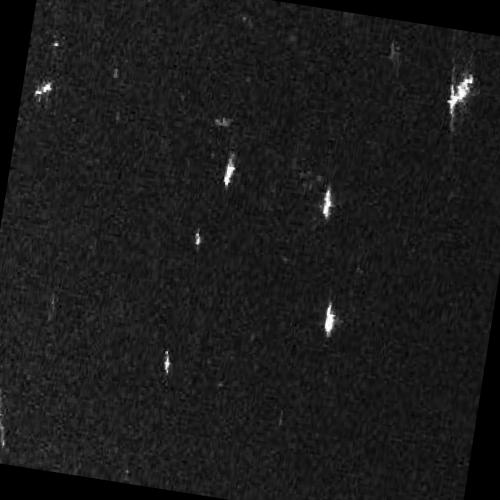ship: (447, 73, 474, 112), (221, 151, 237, 188), (323, 302, 338, 338), (321, 182, 333, 221), (33, 79, 52, 100), (163, 349, 171, 376)
